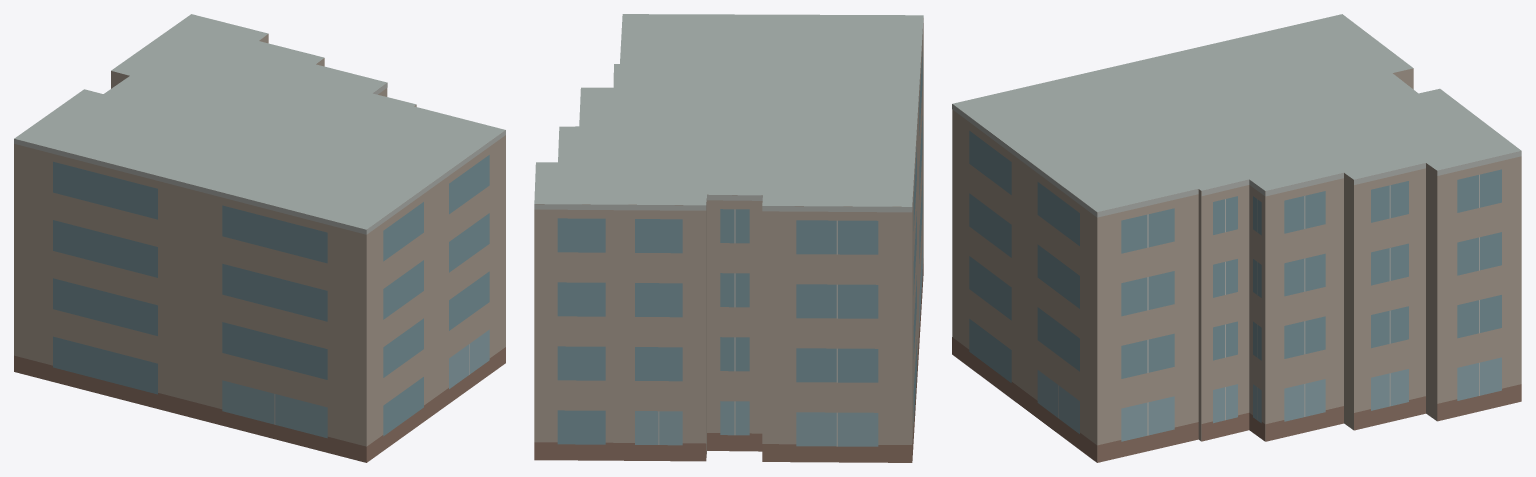
Rendered from survey-upis-32656283.glb.
The picture shows the model from 3 angles, left to right: view 1: azimuth 30°, elevation 25°; view 2: azimuth 150°, elevation 25°; view 3: azimuth 270°, elevation 25°; orthographic projection. The views are drawn at different scales.
Parts seen in each view (by area): view 1: survey-upis-32656283.tmp; view 2: survey-upis-32656283.tmp; view 3: survey-upis-32656283.tmp.
Part boxes in pixels (box(x1,y1,x2,y2)): survey-upis-32656283.tmp: box(14, 14, 505, 462); survey-upis-32656283.tmp: box(534, 14, 923, 462); survey-upis-32656283.tmp: box(952, 14, 1521, 462).
Bounding box in the file's own units: 19.17 × 11.3 × 23.28.
